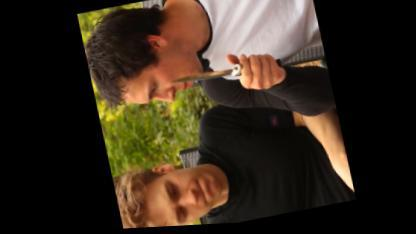knife: (162, 45, 281, 102)
